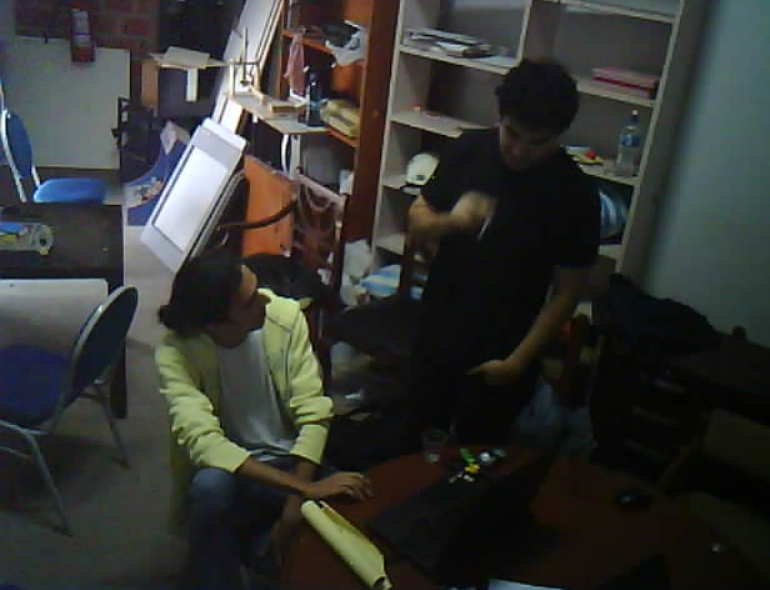person: (393, 25, 618, 484), (148, 241, 380, 590)
